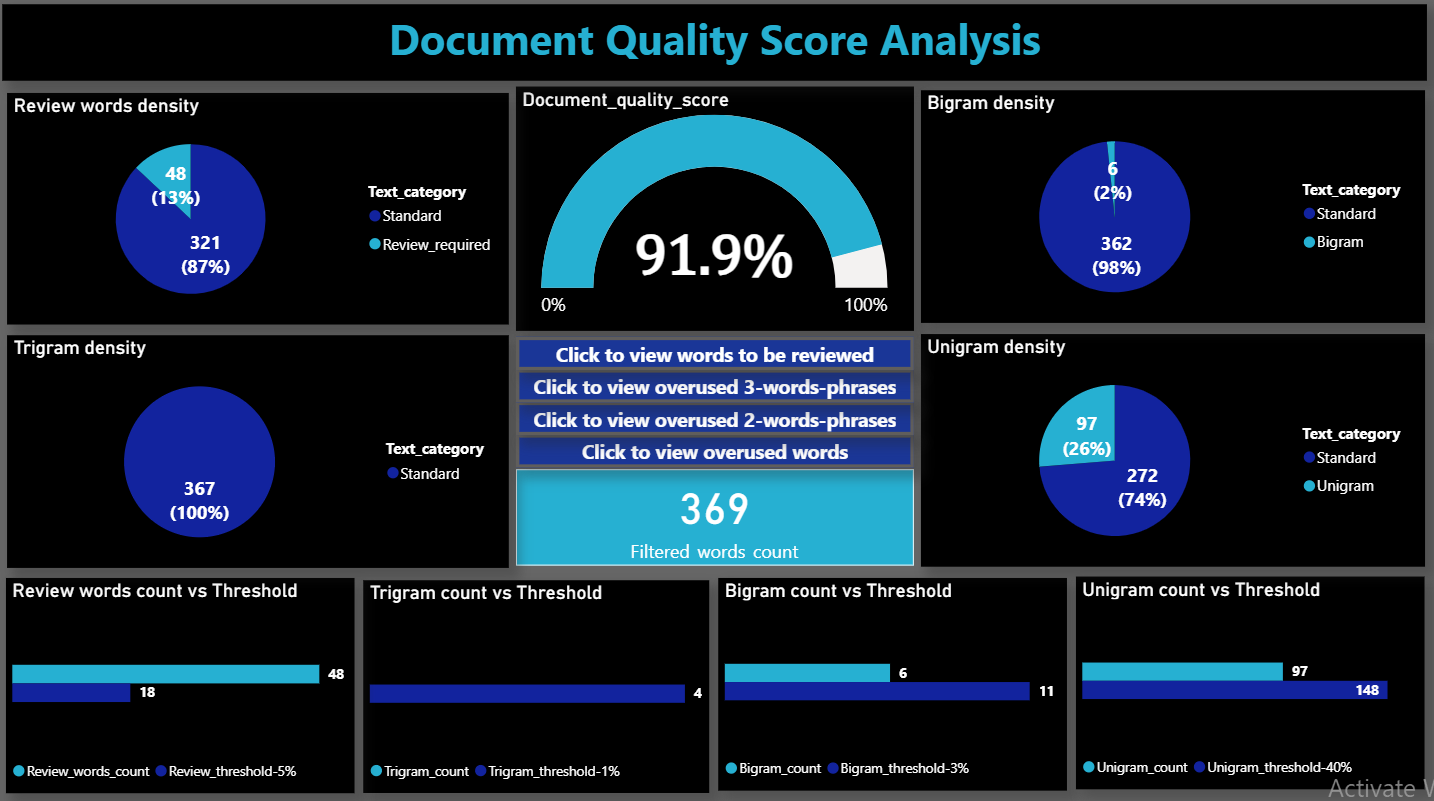

This screenshot's page, from the dashboard's own definition file:
{"tool":"powerbi","page":{"name":"Dashboard","canvas":[1280,720],"ordinal":0},"visuals":[{"type":"card","fields":{"Values":["Lemma.Filtered_words"]},"box":[461.9,419,353.6,85.7],"z":0},{"type":"gauge","fields":{"Y":["Review Required.Document_quality_score"]},"box":[461.9,78.6,353.6,216.7],"z":1000},{"type":"pieChart","title":"Review words density","fields":{"Category":["Table.Text_category"],"Y":["Review_Table.Review_vs_Standard"]},"box":[10.2,84.3,445.8,205.7],"z":2000},{"type":"clusteredBarChart","title":"Trigram count vs Threshold","fields":{"Y":["Trigram.Trigram_count","Trigram.Trigram_threshold-1%"]},"box":[327.2,517.3,307.4,188.9],"z":3000},{"type":"clusteredBarChart","title":"Bigram count vs Threshold","fields":{"Y":["Bigram.Bigram_count","Bigram.Bigram_threshold-3%"]},"box":[642,516.1,309.9,188.9],"z":4000},{"type":"clusteredBarChart","title":"Unigram count vs Threshold","fields":{"Y":["Unigram.Unigram_count","Unigram.Unigram_threshold-40%"]},"box":[960.5,514.8,309.9,188.9],"z":5000},{"type":"clusteredBarChart","title":"Review words count vs Threshold","fields":{"Y":["Review Required.Review_words_count","Review Required.Review_threshold-5%"]},"box":[8.6,516.1,309.9,191.4],"z":6000},{"type":"textbox","box":[6,6,1266.7,67.9],"z":7000},{"type":"pieChart","title":"Trigram density","fields":{"Y":["Trigram_Table.Trigram_vs_Standard"],"Category":["Trigram_Table.Text_category"]},"box":[9.9,300,445.7,206.2],"z":8000},{"type":"pieChart","title":"Unigram density","fields":{"Category":["Unigram_density.Text_category"],"Y":["Unigram_density.Unigram_vs_standard"]},"box":[822.2,298.8,448.1,206.2],"z":9000},{"type":"pieChart","title":"Bigram density","fields":{"Category":["Bigram_Table.Text_category"],"Y":["Bigram_Table.Bigram_vs_Standard"]},"box":[822.2,82.7,448.1,206.2],"z":10000},{"type":"actionButton","box":[461.9,388.1,353.6,29.8],"z":11000},{"type":"actionButton","box":[461.9,358.3,353.6,29.8],"z":12000},{"type":"actionButton","box":[461.9,329.8,353.6,29.8],"z":13000},{"type":"actionButton","box":[461.9,301.2,353.6,29.8],"z":14000}]}

Visuals, with their boxes in screenshot pixels (x1, y1, x2, y2), scaled from the page's 1280x720 canvas onto the 1434x801 screenshot:
card - Lemma.Filtered_words: <bbox>517, 466, 914, 561</bbox>
gauge - Review Required.Document_quality_score: <bbox>517, 87, 914, 329</bbox>
"Review words density" pieChart: <bbox>11, 94, 511, 323</bbox>
"Trigram count vs Threshold" clusteredBarChart: <bbox>367, 575, 711, 786</bbox>
"Bigram count vs Threshold" clusteredBarChart: <bbox>719, 574, 1066, 784</bbox>
"Unigram count vs Threshold" clusteredBarChart: <bbox>1076, 573, 1423, 783</bbox>
"Review words count vs Threshold" clusteredBarChart: <bbox>10, 574, 357, 787</bbox>
textbox: <bbox>7, 7, 1426, 82</bbox>
"Trigram density" pieChart: <bbox>11, 334, 510, 563</bbox>
"Unigram density" pieChart: <bbox>921, 332, 1423, 562</bbox>
"Bigram density" pieChart: <bbox>921, 92, 1423, 321</bbox>
actionButton: <bbox>517, 432, 914, 465</bbox>
actionButton: <bbox>517, 399, 914, 432</bbox>
actionButton: <bbox>517, 367, 914, 400</bbox>
actionButton: <bbox>517, 335, 914, 368</bbox>
